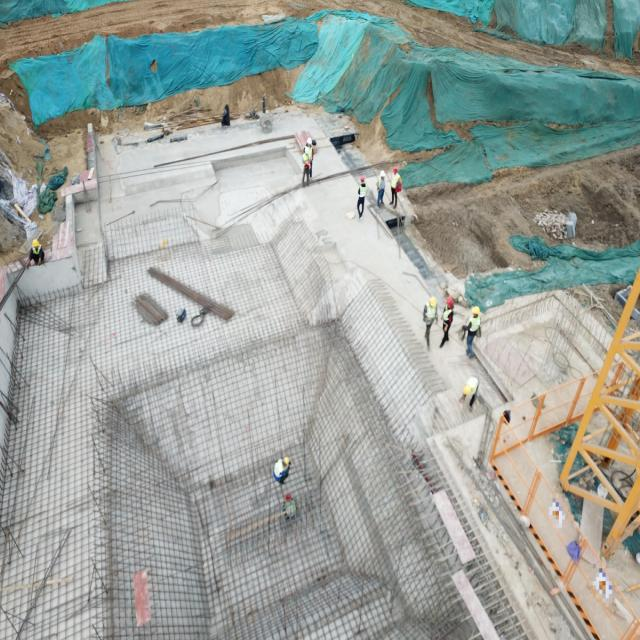crane: (554, 267, 640, 559)
